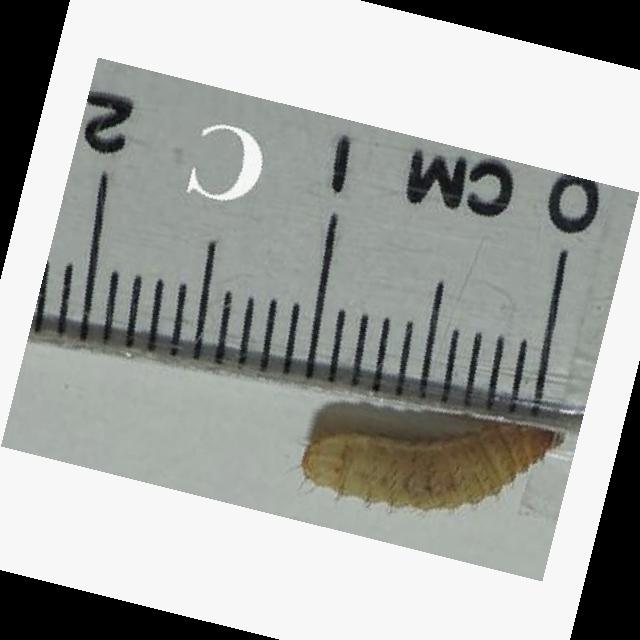Maggot: (302, 413, 566, 507)
